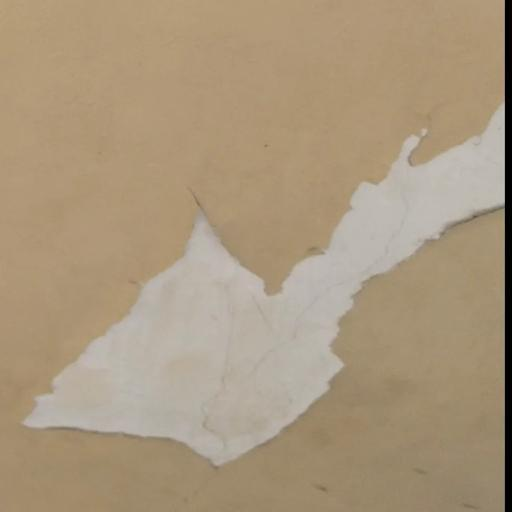peeling: (14, 96, 512, 458)
